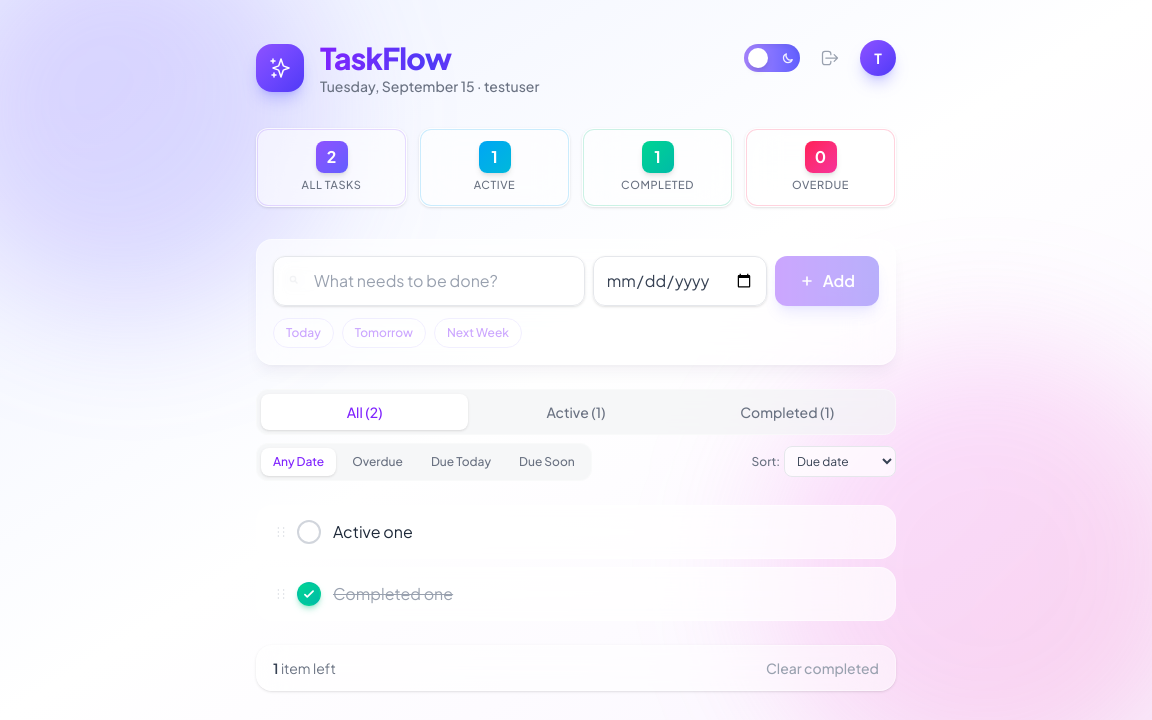
it: TodoApp › filters › filters by Active
This screenshot has width=1152, height=720.
Expected: the text "Active one" is shown, [333, 520, 413, 542]
What coordinates should you click on to do the following:
click the button "Active (1)"
I would click on:
 (576, 412)
Its box is [472, 394, 680, 430].
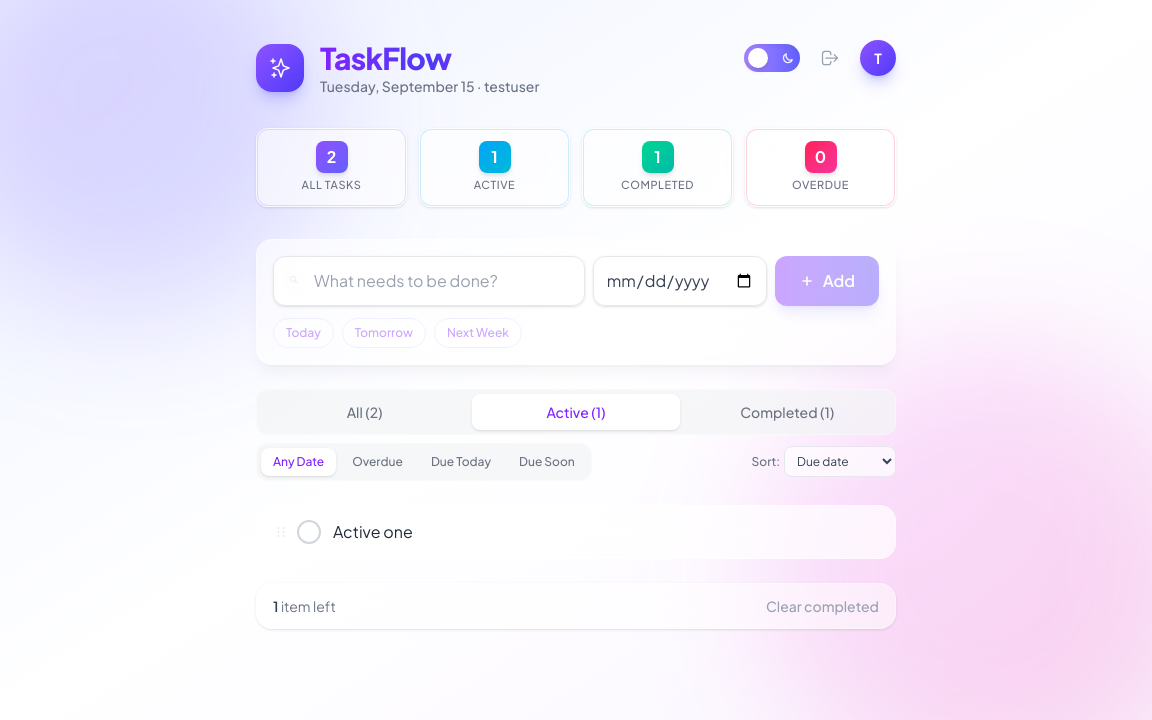
Expected: the text "Active one" is shown, [333, 520, 413, 542]
Expected: the text "Completed one" is gone
